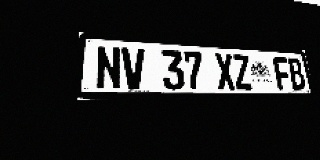3: (161, 50, 185, 90)
7: (182, 51, 205, 90)
B: (287, 58, 307, 90)
F: (272, 57, 293, 90)
N: (96, 46, 121, 90)
V: (121, 47, 146, 90)
X: (214, 53, 236, 90)
Z: (232, 54, 253, 90)
